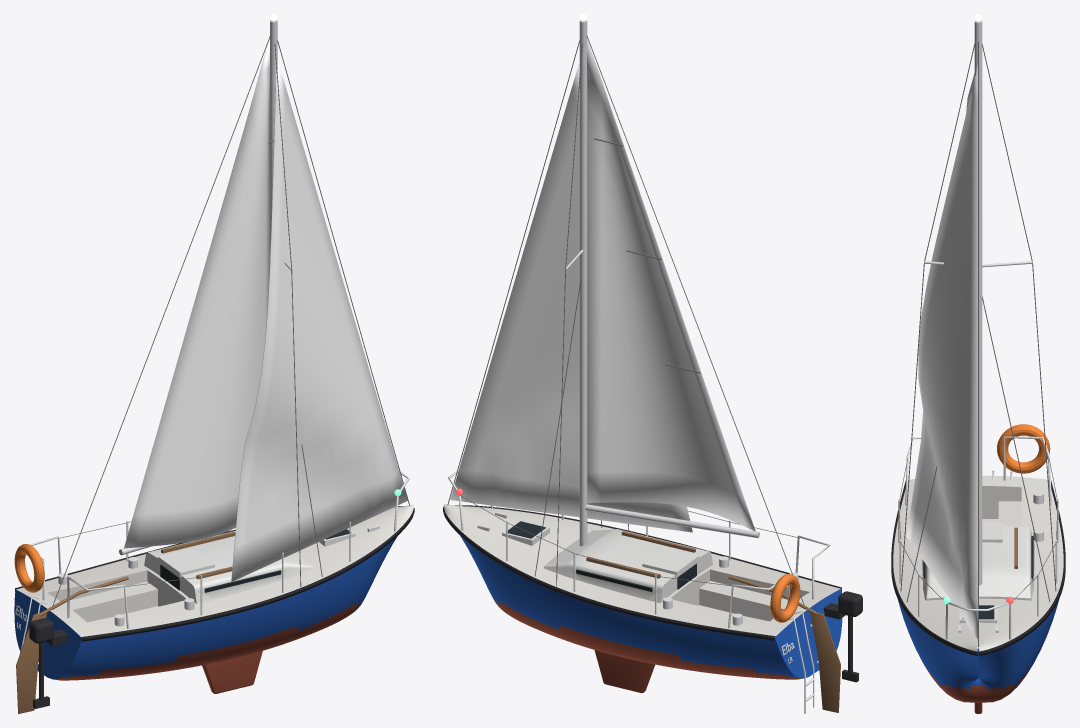
The model's file is elba.glb.
3 renders of one model, left to right at view 1: azimuth 30°, elevation 25°; view 2: azimuth 150°, elevation 25°; view 3: azimuth 270°, elevation 25°, orthographic. The views are drawn at different scales.
Parts seen in each view (by area): view 1: Genois, Coque, GrandVoile, Liston, Safran, Mat.001, Bouee, Pataras.001, Hauban.003, Etai.001; view 2: Coque, GrandVoile, Genois, Mat.001, Liston, Safran, Bome.001, Bouee, Pataras.001, Hauban.002, Etai.001; view 3: Genois, Coque, Mat.001, Liston, Bouee, Hauban.002, Hauban.003, Etai.001, BasHauban.002, Balcon AR.002, Balcon.001.
Part boxes in pixels (x1=…): Genois: x1=231, y1=60, x2=407, y2=581; Coque: x1=14, y1=504, x2=413, y2=693; GrandVoile: x1=124, y1=39, x2=269, y2=548; Liston: x1=15, y1=506, x2=414, y2=641; Safran: x1=16, y1=613, x2=46, y2=713; Mat.001: x1=270, y1=19, x2=277, y2=259; Bouee: x1=14, y1=544, x2=44, y2=592; Pataras.001: x1=52, y1=35, x2=270, y2=606; Hauban.003: x1=274, y1=43, x2=301, y2=586; Etai.001: x1=277, y1=40, x2=409, y2=505; Coque: x1=443, y1=504, x2=842, y2=693; GrandVoile: x1=587, y1=38, x2=755, y2=531; Genois: x1=450, y1=62, x2=692, y2=532; Mat.001: x1=579, y1=19, x2=587, y2=546; Liston: x1=443, y1=505, x2=841, y2=640; Safran: x1=810, y1=612, x2=840, y2=712; Bome.001: x1=585, y1=504, x2=759, y2=538; Bouee: x1=770, y1=574, x2=800, y2=622; Pataras.001: x1=586, y1=35, x2=804, y2=605; Hauban.002: x1=556, y1=43, x2=582, y2=586; Etai.001: x1=447, y1=40, x2=579, y2=505; Genois: x1=906, y1=64, x2=977, y2=639; Coque: x1=893, y1=475, x2=1063, y2=713; Mat.001: x1=974, y1=20, x2=982, y2=585; Liston: x1=891, y1=480, x2=1065, y2=655; Bouee: x1=997, y1=424, x2=1050, y2=473; Hauban.002: x1=982, y1=43, x2=1056, y2=591; Hauban.003: x1=900, y1=43, x2=974, y2=591; Etai.001: x1=978, y1=41, x2=978, y2=646; BasHauban.002: x1=982, y1=296, x2=1050, y2=601; Balcon AR.002: x1=1003, y1=436, x2=1051, y2=505; Balcon.001: x1=945, y1=602, x2=1011, y2=639.
Size of the model in its own units: 6.57 by 10.45 by 2.32.
